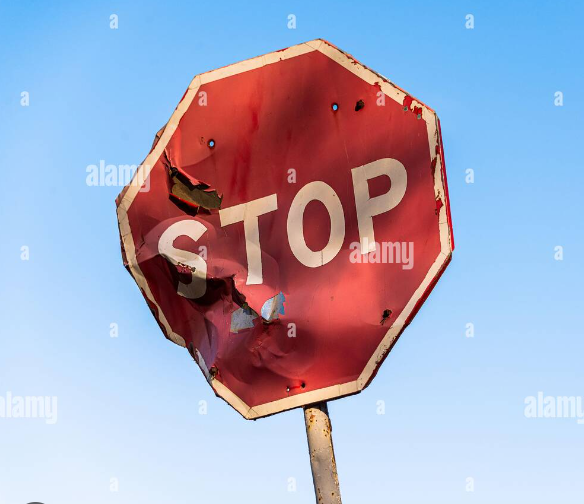Stop: (117, 53, 468, 410)
